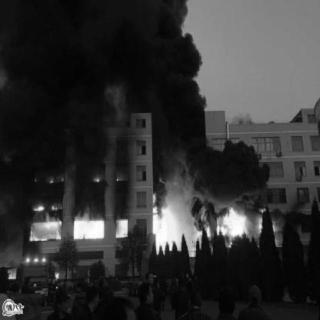Smoke: (8, 3, 254, 193)
